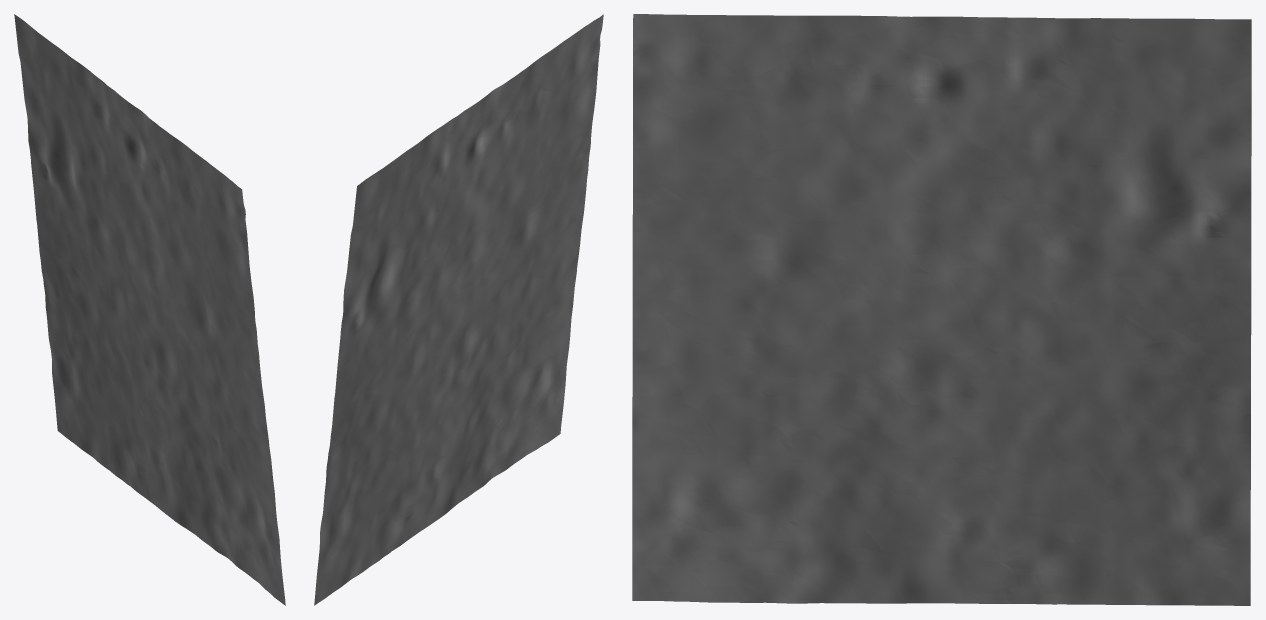
3 views of the same model, side by side, from view 1: azimuth 30°, elevation 25°; view 2: azimuth 150°, elevation 25°; view 3: azimuth 270°, elevation 25° (orthographic). The views are drawn at different scales.
Bounding box in the file's own units: 670 × 5293 × 5312.
1 material, 1 textured.
